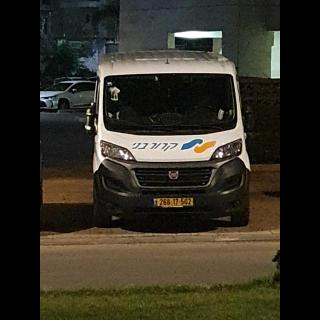LicensePlate: (157, 199, 193, 206)
